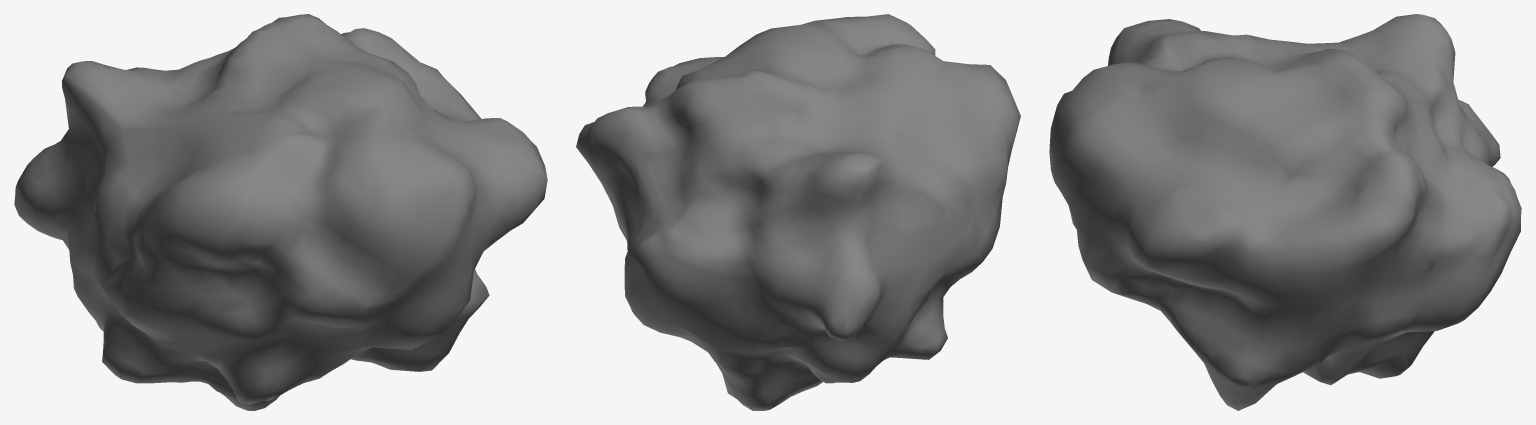
The model's file is Rock201.fbx.
3 renders of one model, left to right at view 1: azimuth 30°, elevation 25°; view 2: azimuth 150°, elevation 25°; view 3: azimuth 270°, elevation 25°, orthographic. The views are drawn at different scales.
Parts seen in each view (by area): view 1: RetopoGroup1; view 2: RetopoGroup1; view 3: RetopoGroup1.
Boxes of the visible parts, bbox=[...] form: RetopoGroup1: bbox=[14, 14, 547, 410]; RetopoGroup1: bbox=[576, 14, 1020, 410]; RetopoGroup1: bbox=[1049, 14, 1521, 410].
Bounding box in the file's own units: 436 × 367 × 473.
